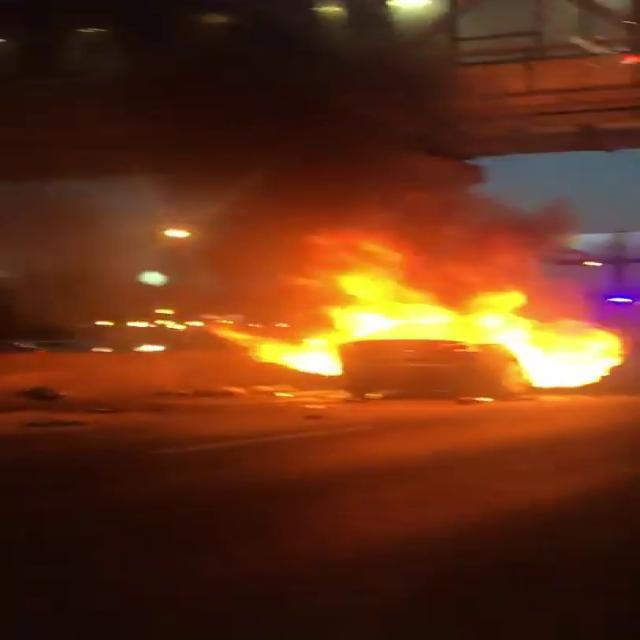Fire: (242, 266, 636, 392)
Smoke: (1, 1, 589, 280)
